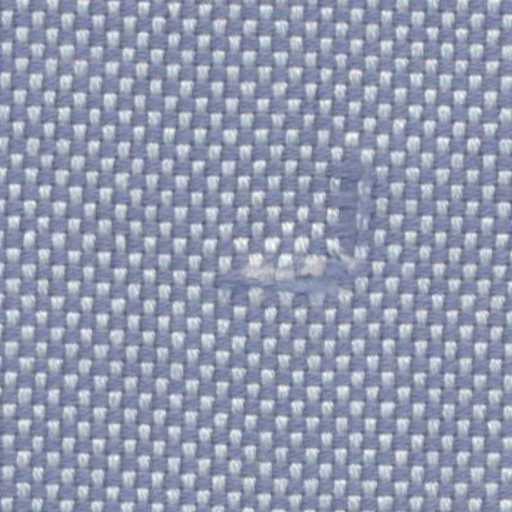PoDong: (220, 230, 385, 342)
